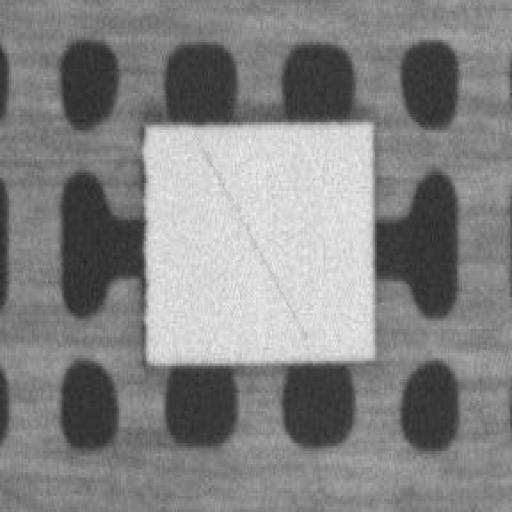DIE_CRACK: (289, 89, 454, 224)
